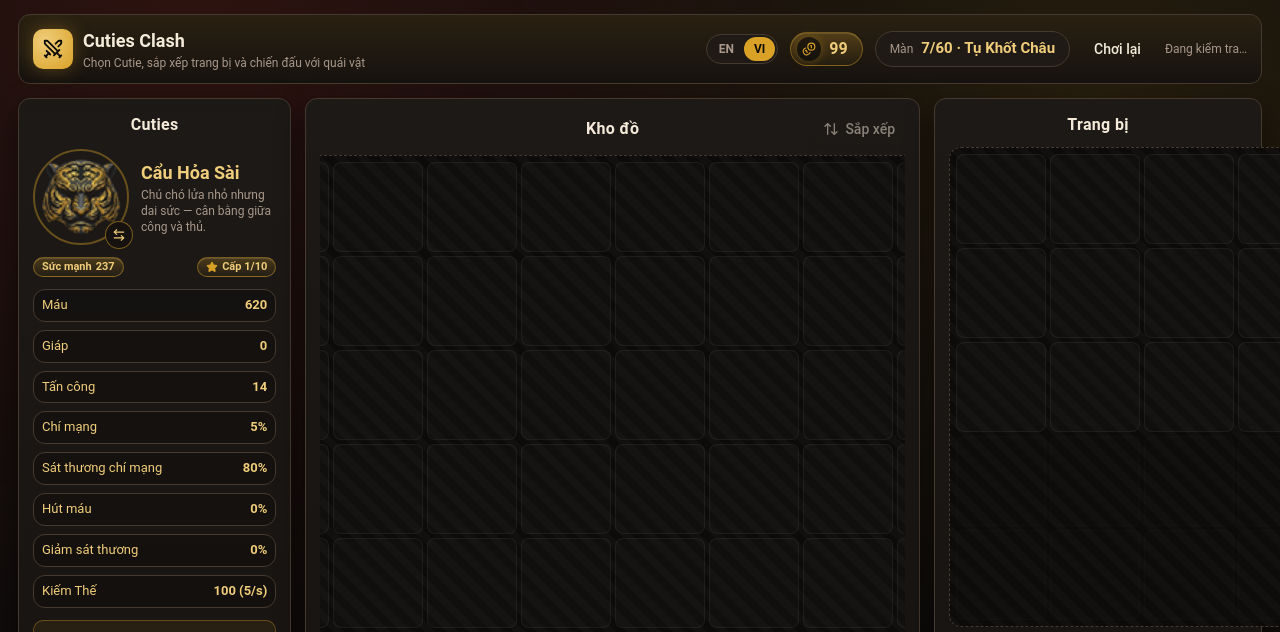
restarting asks for confirmation › resets the run only after confirming
Click the button "Chơi lại": {"x": 1118, "y": 49} [1082,33,1153,65]
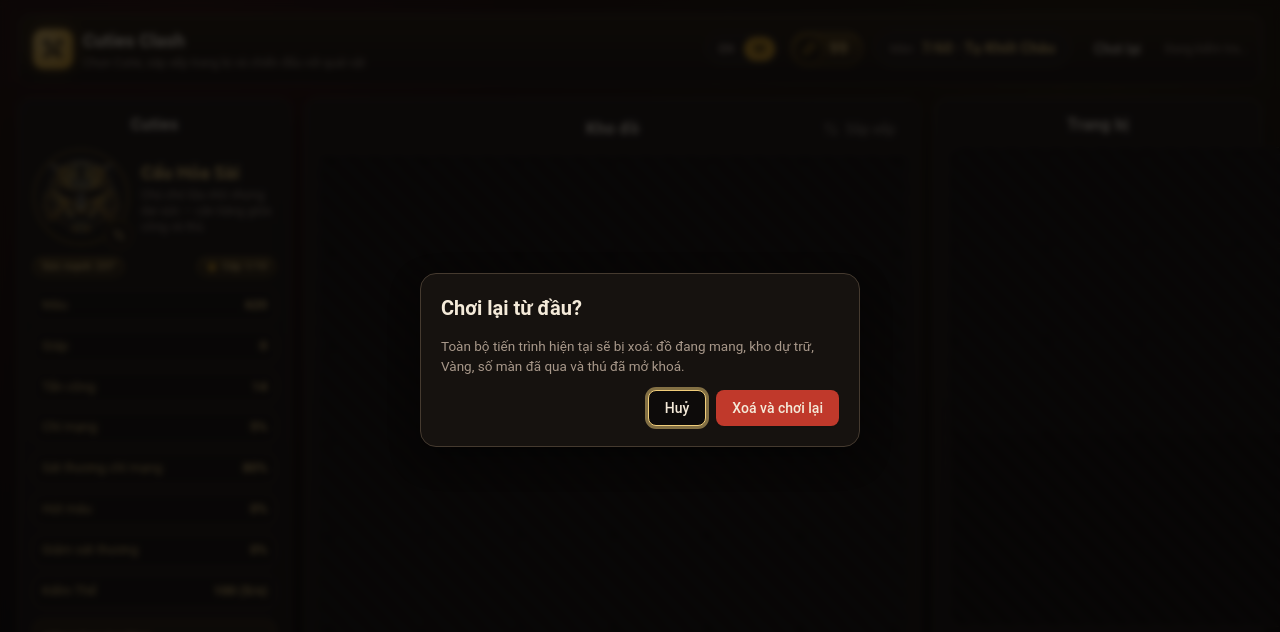
Click the button "Xoá và chơi lại": {"x": 778, "y": 408} [716,390,839,426]
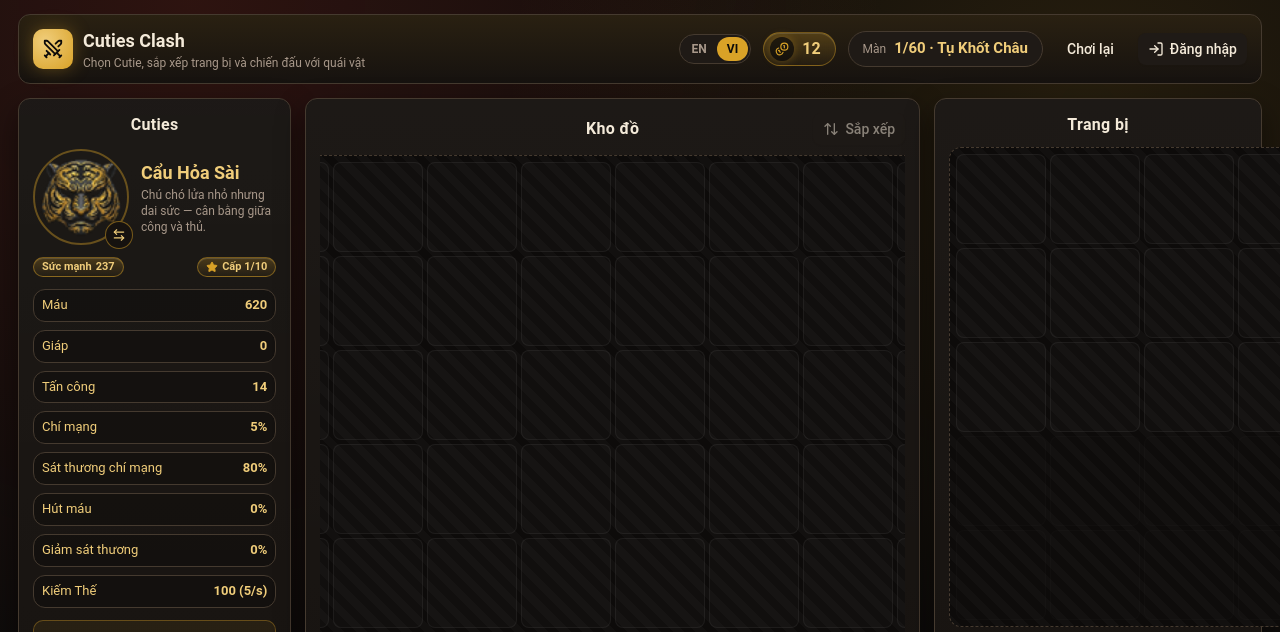
expect the dialog is gone: met
